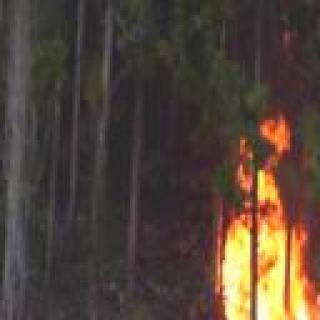fire: (163, 109, 320, 320)
